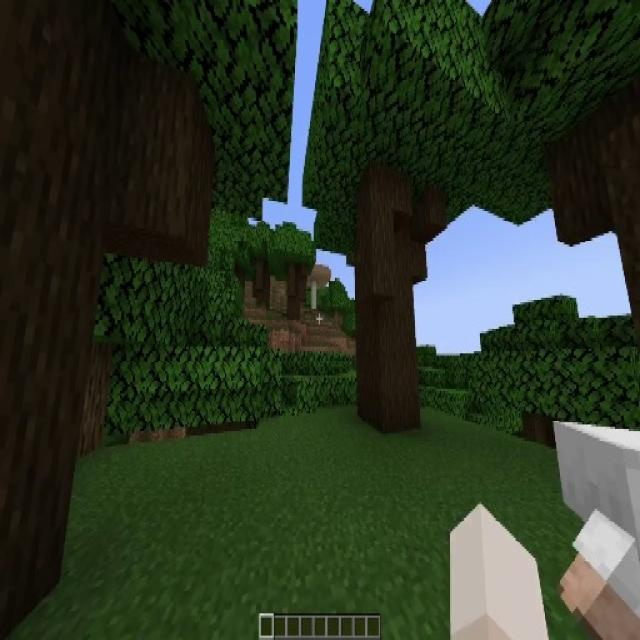dark_oak: (308, 0, 498, 431), (274, 227, 318, 317), (248, 220, 276, 311)
dark_oak_log: (0, 16, 163, 628), (352, 175, 428, 417), (286, 263, 307, 320), (253, 258, 269, 308)
